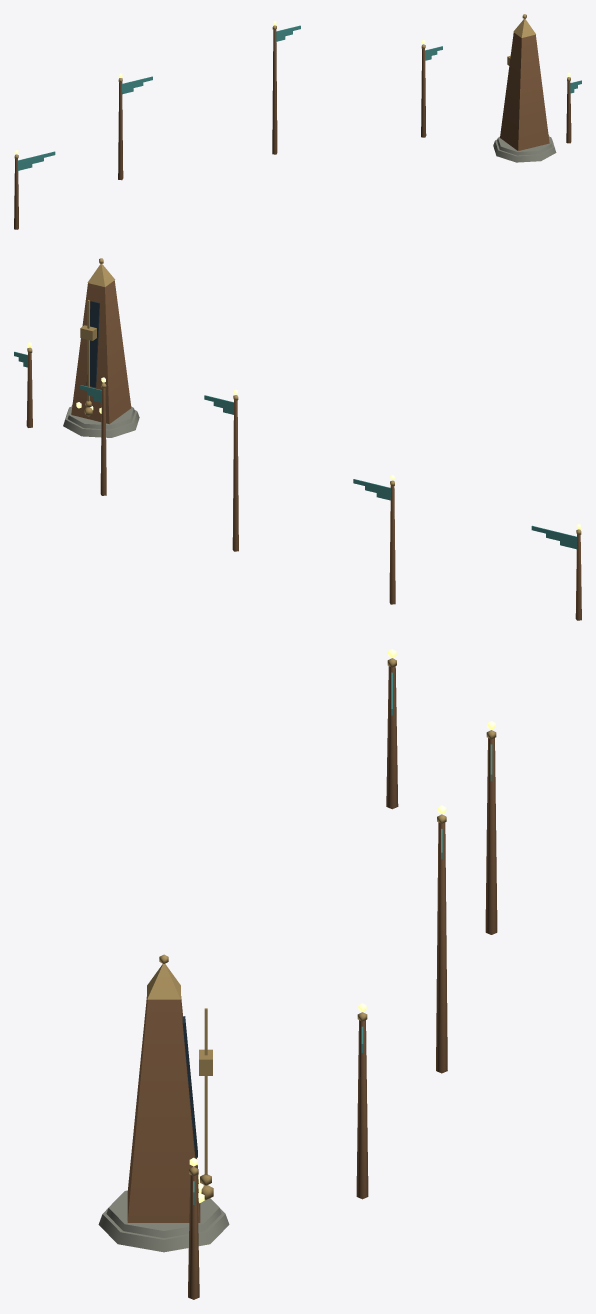
Rendered from landmark-r1-tempo-tower-far.glb.
3 renders of one model, top to bottom at view 1: azimuth 30°, elevation 25°; view 2: azimuth 150°, elevation 25°; view 3: azimuth 270°, elevation 25°, orthographic. The views are drawn at different scales.
Parts seen in each view (by area): view 1: Static_far; view 2: Static_far; view 3: Static_far.
Boxes of the visible parts, x1,y1,x2,y2 form: Static_far: (14, 14, 581, 229); Static_far: (14, 258, 581, 620); Static_far: (98, 658, 497, 1299).
Bounding box in the file's own units: 121 × 32.55 × 40.2.
